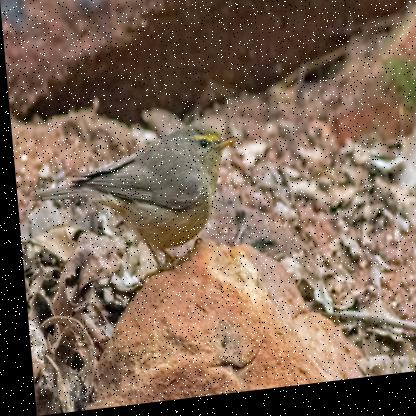Burung: (28, 126, 243, 283)
